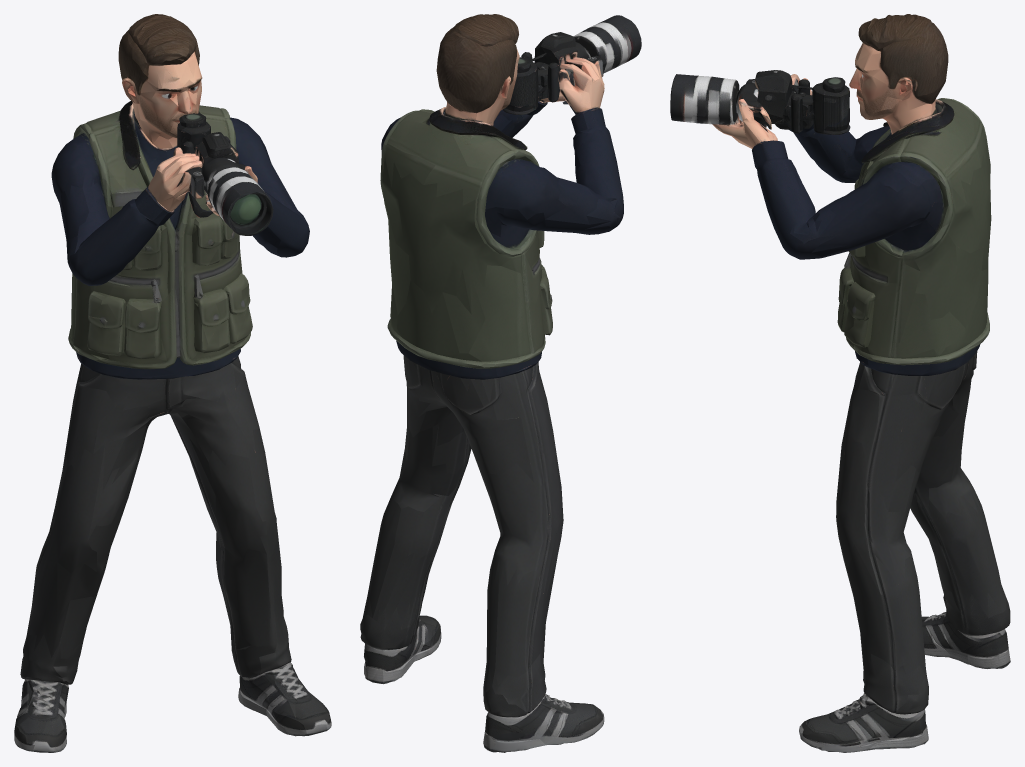
Rendered from standing.glb.
3 views of the same model, side by side, from view 1: azimuth 30°, elevation 25°; view 2: azimuth 150°, elevation 25°; view 3: azimuth 270°, elevation 25° (orthographic). The views are drawn at different scales.
Bounding box in the file's own units: 0.7365 × 1.9 × 0.8661.
Materials: 1 (1 with a texture image).
